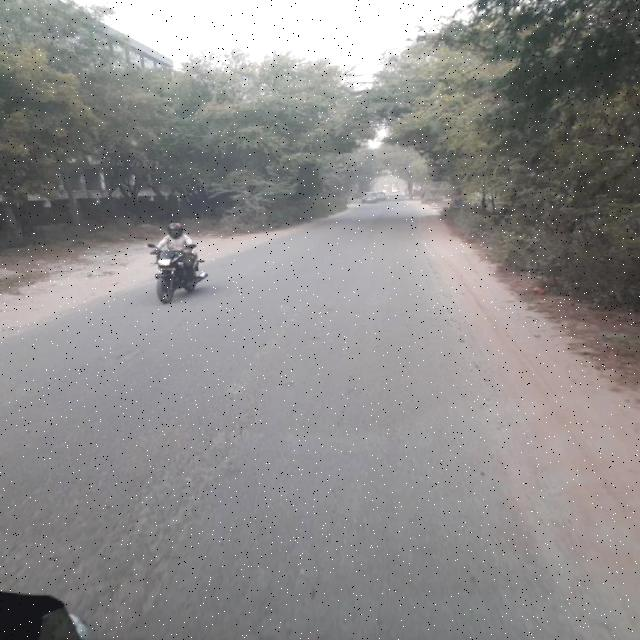D20: (55, 404, 238, 626)
